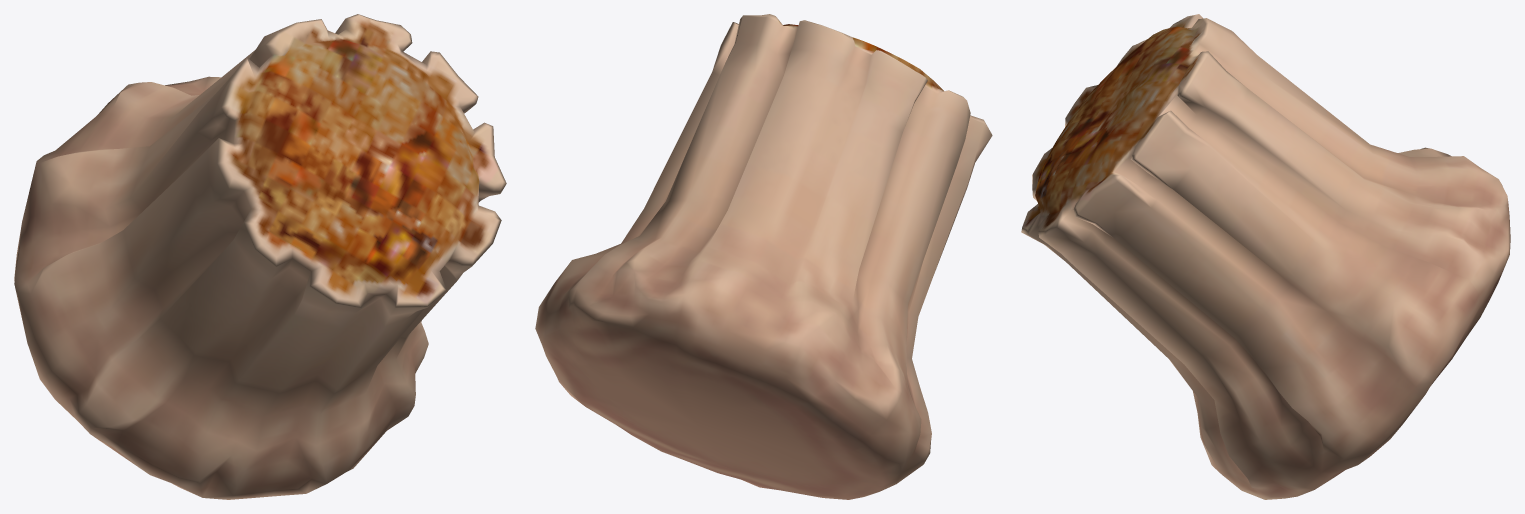
Rendered from ref_bfshaomai.glb.
3 renders of one model, left to right at view 1: azimuth 30°, elevation 25°; view 2: azimuth 150°, elevation 25°; view 3: azimuth 270°, elevation 25°, orthographic. The views are drawn at different scales.
Parts seen in each view (by area): view 1: ref_bfshaomai_part0; view 2: ref_bfshaomai_part0; view 3: ref_bfshaomai_part0.
Boxes of the visible parts, x1=… form: ref_bfshaomai_part0: x1=14, y1=14, x2=506, y2=499; ref_bfshaomai_part0: x1=535, y1=14, x2=992, y2=499; ref_bfshaomai_part0: x1=1021, y1=14, x2=1510, y2=499.
Size of the model in its own units: 0.8289 by 1 by 0.9953.
Materials: 1 (1 with a texture image).
